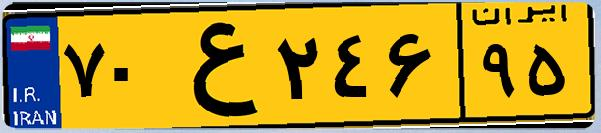0: (110, 28, 158, 98)
2: (270, 28, 330, 110)
4: (330, 28, 385, 110)
5: (525, 38, 570, 115)
6: (385, 28, 445, 110)
7: (57, 26, 110, 100)
9: (475, 38, 525, 113)
ع: (158, 12, 270, 120)
